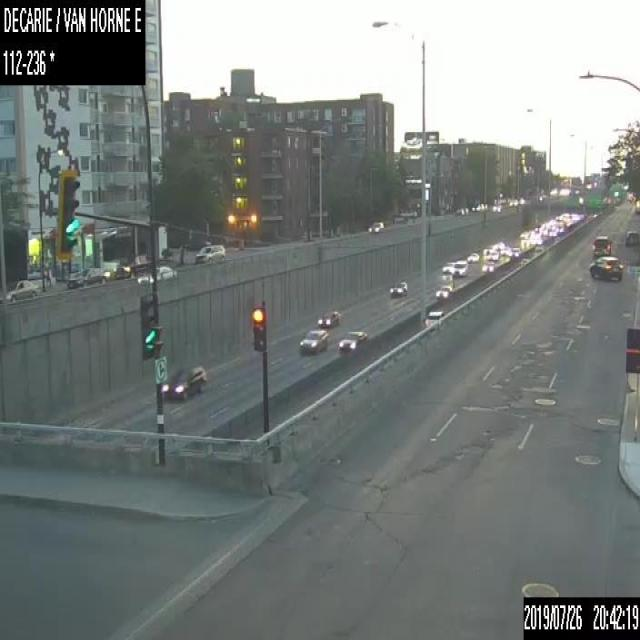vehicle: (161, 361, 204, 399), (65, 264, 107, 289), (589, 255, 624, 280), (135, 264, 178, 281), (298, 329, 327, 353), (193, 243, 226, 264), (338, 329, 368, 352), (6, 279, 36, 301), (592, 235, 611, 257), (318, 310, 340, 326), (389, 277, 407, 296), (426, 310, 444, 326), (624, 228, 639, 247), (452, 260, 468, 276), (435, 283, 452, 297), (366, 221, 384, 232), (441, 260, 454, 274), (481, 260, 494, 272), (509, 246, 520, 258), (486, 249, 498, 259), (467, 252, 478, 262), (499, 245, 508, 255), (0, 291, 2, 301)
